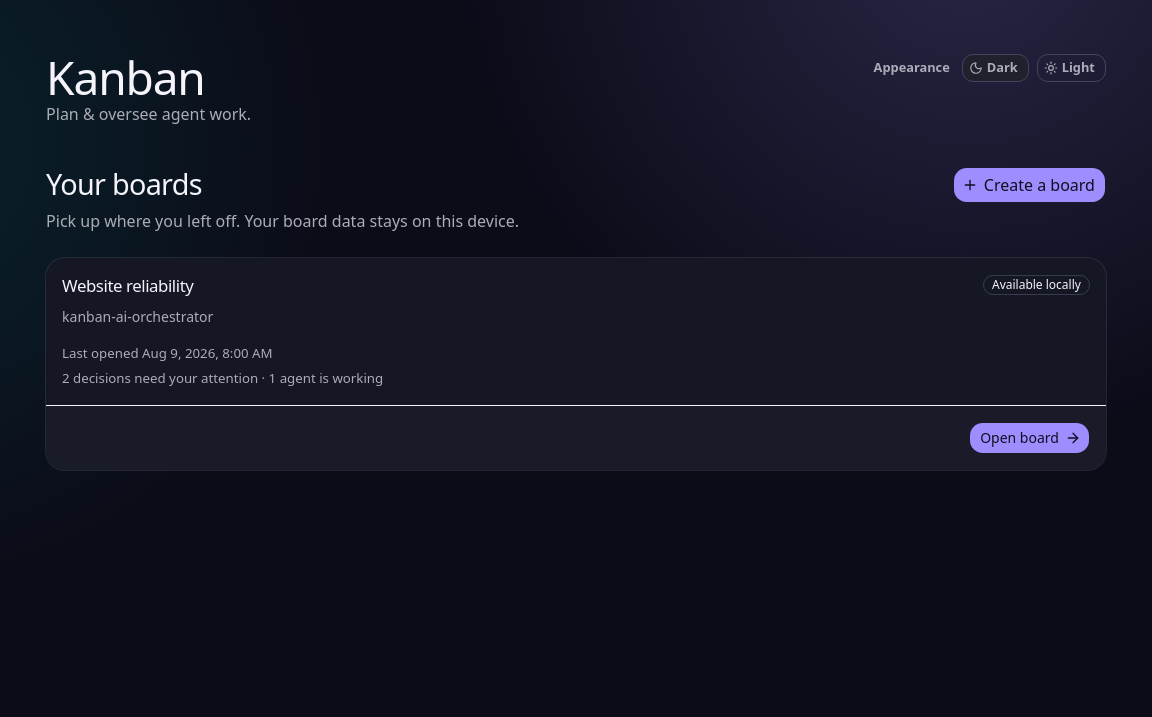
Test case: board library › opens a recognised local board without asking for an ID
Expected: the heading "Website reliability" is shown, [62,274,194,297]
Expected: the text "kanban-ai-orchestrator" is shown, [62,307,213,326]
What coordinates should you click on to do the following:
click the button with aria-label "Open Website reliability"
I would click on:
 (1030, 438)
Its box is [969,422,1090,454].
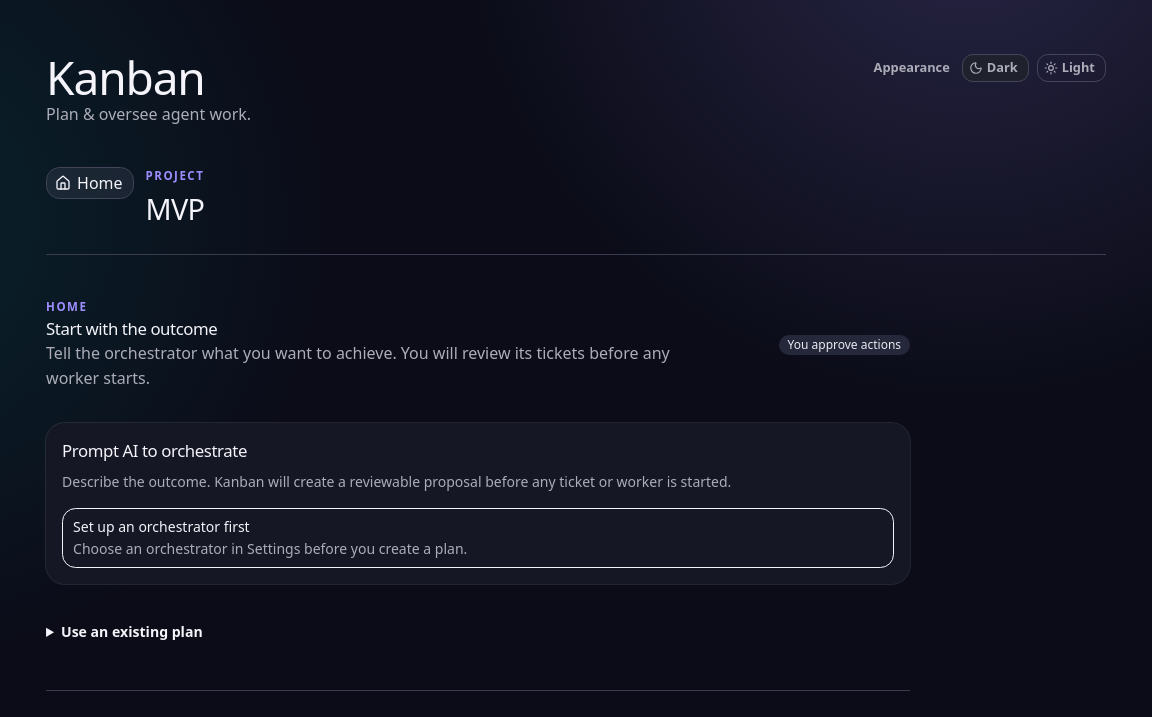
Now the heading "MVP" is shown, box [146,192,204,225]
